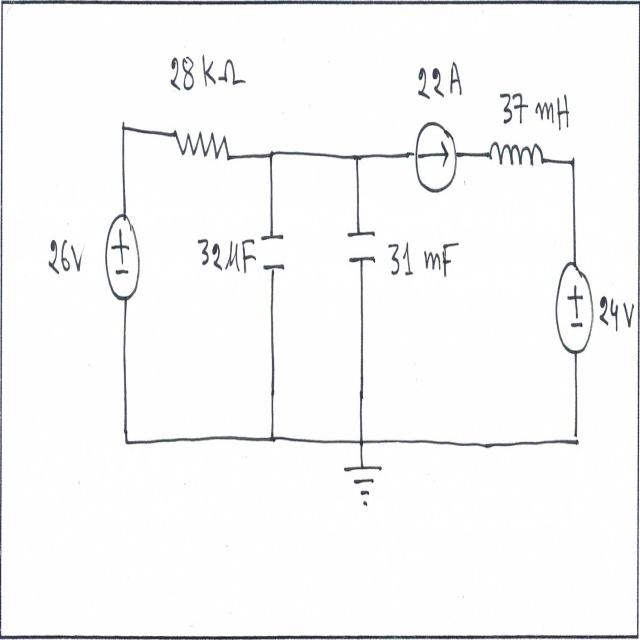capacitor: (256, 214, 289, 287), (346, 225, 382, 273)
current_source: (411, 116, 462, 203)
ground: (341, 459, 392, 518)
inductor: (486, 133, 550, 181)
resistor: (169, 122, 238, 173)
voltage_source: (552, 258, 598, 364), (98, 210, 144, 307)
